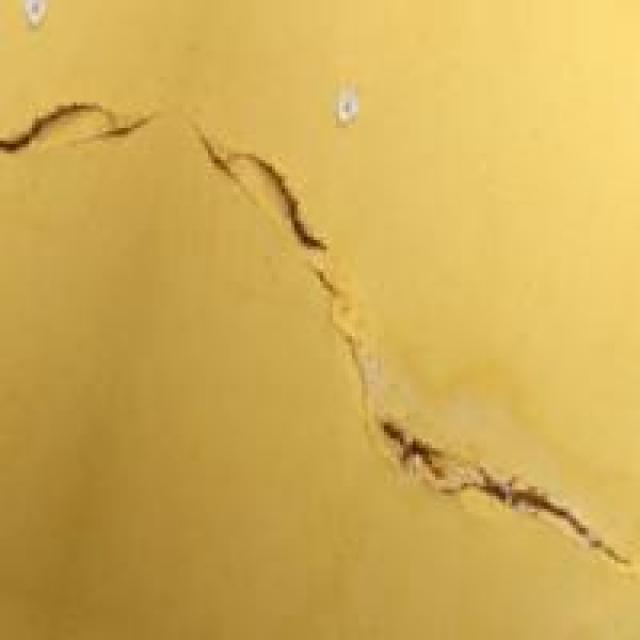Crack: (0, 77, 592, 566)
